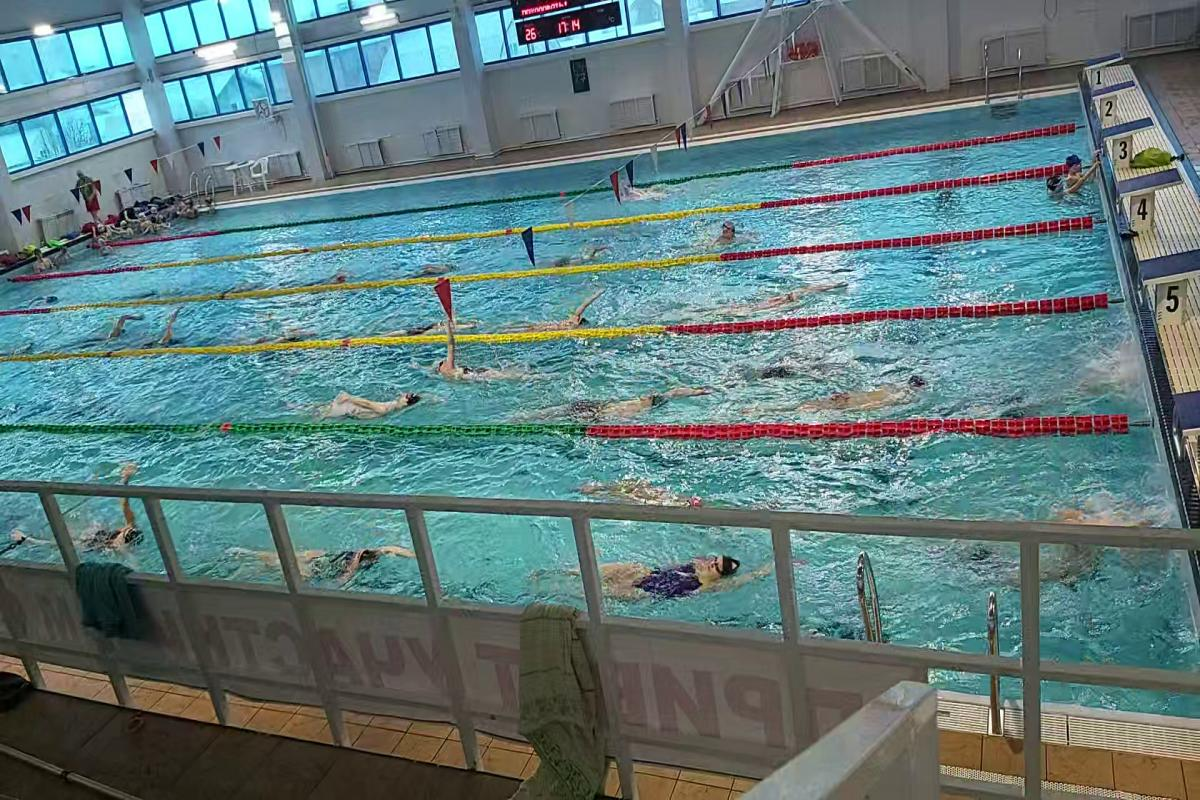swimmer: (603, 544, 767, 603), (807, 366, 934, 416), (304, 534, 409, 586), (582, 377, 711, 419), (318, 372, 430, 419), (427, 342, 529, 386), (76, 507, 143, 556), (389, 306, 481, 338), (90, 308, 145, 342), (706, 217, 756, 246)
